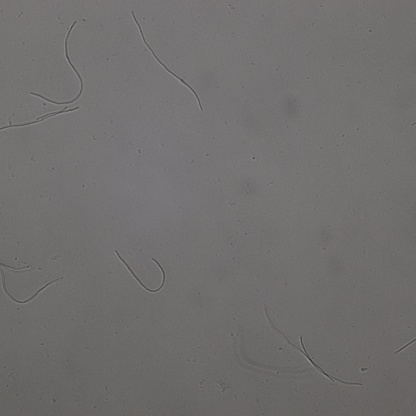Sensitive: (266, 306, 361, 385), (132, 11, 203, 110), (30, 22, 83, 105), (1, 261, 63, 304), (1, 106, 82, 133), (116, 250, 166, 292)
